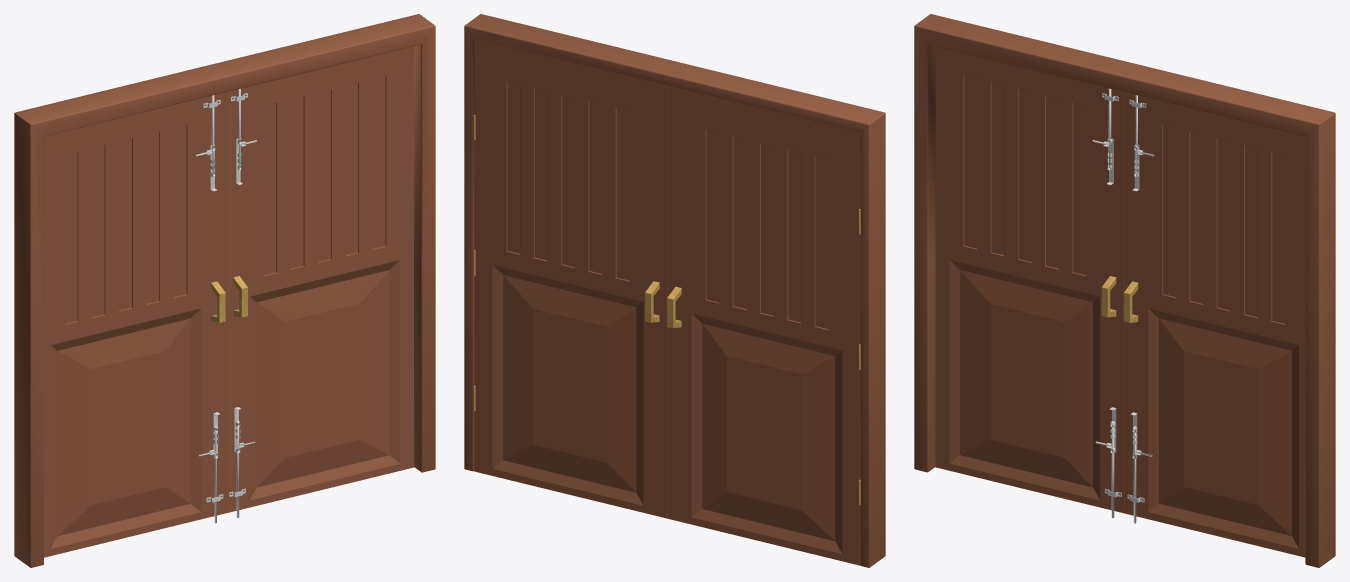
The model's file is pintu ganda.fbx.
3 views of the same model, side by side, from view 1: azimuth 30°, elevation 25°; view 2: azimuth 150°, elevation 25°; view 3: azimuth 330°, elevation 25° (orthographic).
Parts seen in each view (by area): view 1: kayu pintu.002, kayu pintu.001, kerangka pintu.001; view 2: kayu pintu.002, kayu pintu.001, kerangka pintu.001; view 3: kayu pintu.001, kayu pintu.002, kerangka pintu.001.
Boxes of the visible parts, x1=… form: kayu pintu.002: x1=225, y1=46, x2=413, y2=513; kayu pintu.001: x1=44, y1=92, x2=225, y2=557; kerangka pintu.001: x1=14, y1=14, x2=435, y2=567; kayu pintu.002: x1=474, y1=38, x2=667, y2=518; kayu pintu.001: x1=667, y1=85, x2=860, y2=565; kerangka pintu.001: x1=464, y1=14, x2=885, y2=567; kayu pintu.001: x1=935, y1=46, x2=1124, y2=513; kayu pintu.002: x1=1124, y1=92, x2=1305, y2=557; kerangka pintu.001: x1=914, y1=14, x2=1335, y2=567.
Bounding box in the file's own units: 191 × 203 × 20.53.
3 materials, 1 textured.
